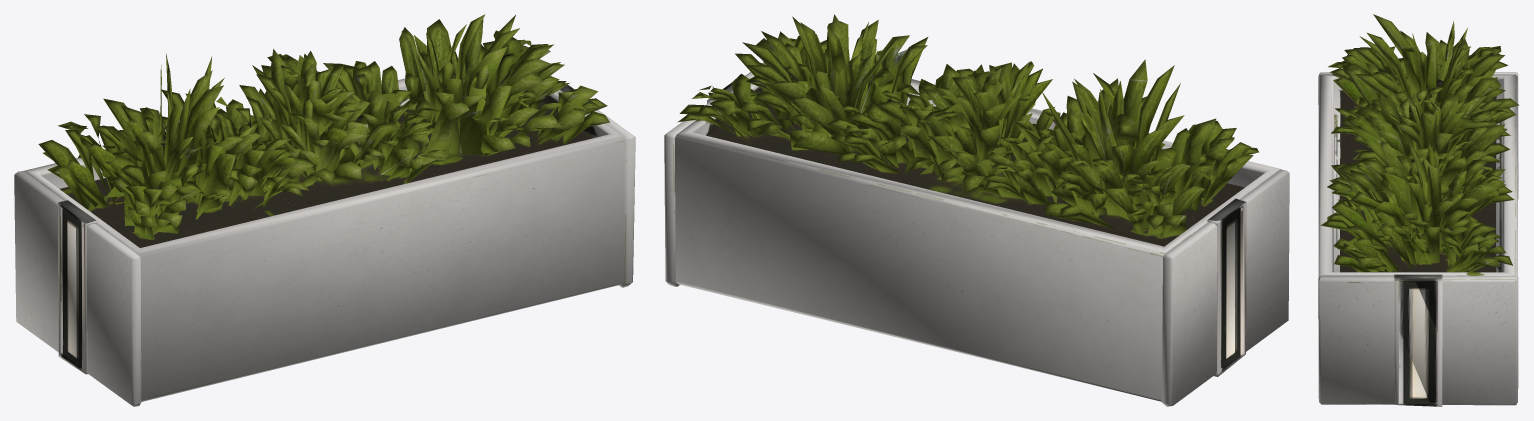
File: meshy-t2.glb
3 renders of one model, left to right at view 1: azimuth 30°, elevation 25°; view 2: azimuth 150°, elevation 25°; view 3: azimuth 270°, elevation 25°, orthographic. The views are drawn at different scales.
Bounding box in the file's own units: 1 × 0.4997 × 0.406.
Materials: 1 (1 with a texture image).
